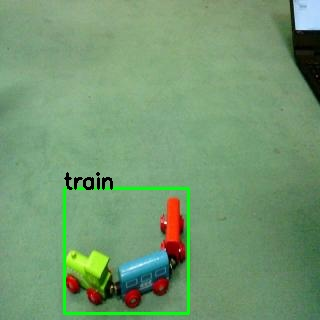train: (63, 197, 193, 312)
